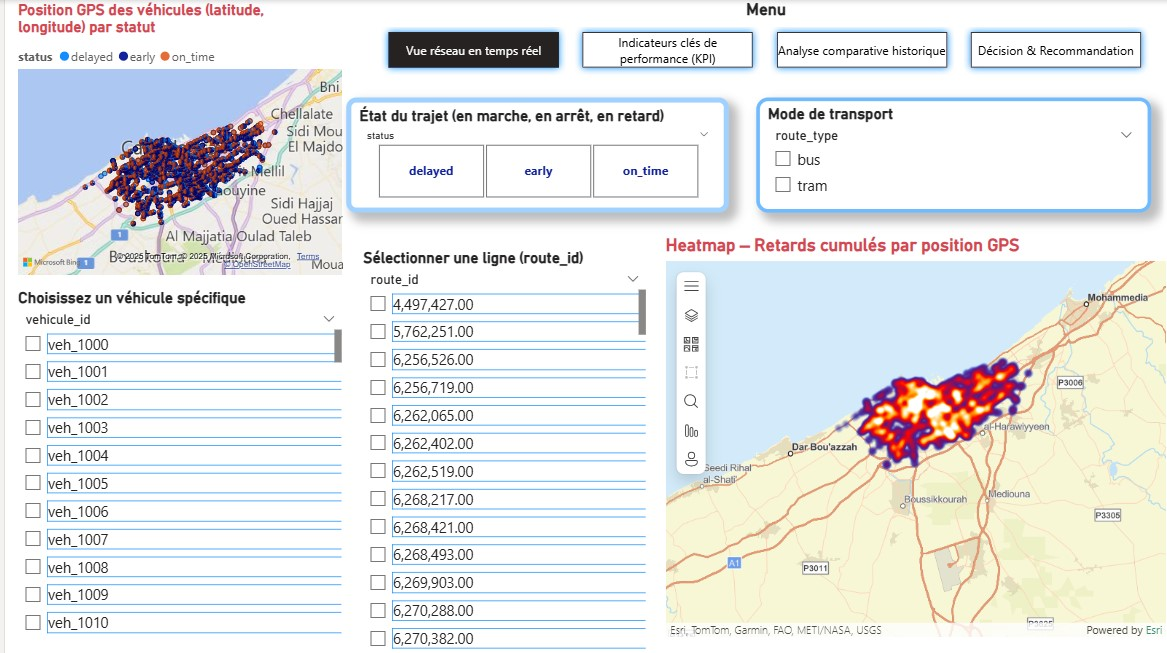

The dashboard page shown, as its layout file describes it:
{"tool":"powerbi","page":{"name":" Vue réseau en temps réel","canvas":[1280,720],"ordinal":0},"visuals":[{"type":"map","title":"Position GPS des véhicules (latitude, longitude)  par statut","fields":{"Series":["Trips.status"],"Y":["Trips.latitude"],"X":["Trips.longitude"]},"box":[10,0,365.5,307.3],"z":0},{"type":"slicer","title":"État du trajet (en marche, en arrêt, en retard)","fields":{"Values":["Trips.status"]},"box":[375,106.7,420,126.7],"z":1000},{"type":"slicer","title":"Choisissez un véhicule spécifique","fields":{"Values":["Trips.vehicule_id"]},"box":[10,317.5,365,387.5],"z":2000},{"type":"slicer","title":"Sélectionner une ligne (route_id)","fields":{"Values":["Route.route_id"]},"box":[388.3,273.3,320,446.7],"z":3000},{"type":"slicer","title":" Mode de transport","fields":{"Values":["Route.route_type"]},"box":[825,106.7,433.3,126.7],"z":4000},{"type":"esriVisual","title":"Heatmap – Retards cumulés par position GPS","fields":{"Latitude":["Trips.latitude"],"Longitude":["Trips.longitude"],"Color":["Sum(Trips.delay_seconds)"]},"box":[720,258.3,560,446.7],"z":5000},{"type":"pageNavigator","title":"Menu","box":[413.3,0,845,83.3],"z":6000}]}

Visuals, with their boxes in screenshot pixels (x1, y1, x2, y2), scaled from the page's 1280x720 canvas onto the 1167x653 screenshot:
"Position GPS des véhicules (latitude, longitude)  par statut" map: (9,0,342,279)
"État du trajet (en marche, en arrêt, en retard)" slicer: (342,97,725,212)
"Choisissez un véhicule spécifique" slicer: (9,288,342,639)
"Sélectionner une ligne (route_id)" slicer: (354,248,646,652)
" Mode de transport" slicer: (752,97,1147,212)
"Heatmap – Retards cumulés par position GPS" esriVisual: (656,234,1166,639)
"Menu" pageNavigator: (377,0,1147,76)
